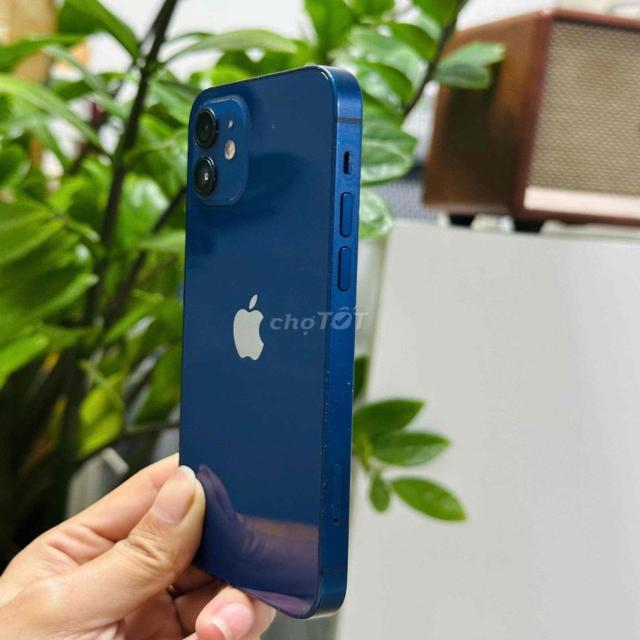gen_12_13: (180, 66, 359, 626)
